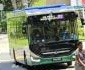bus: (62, 6, 75, 16), (56, 12, 65, 20)
